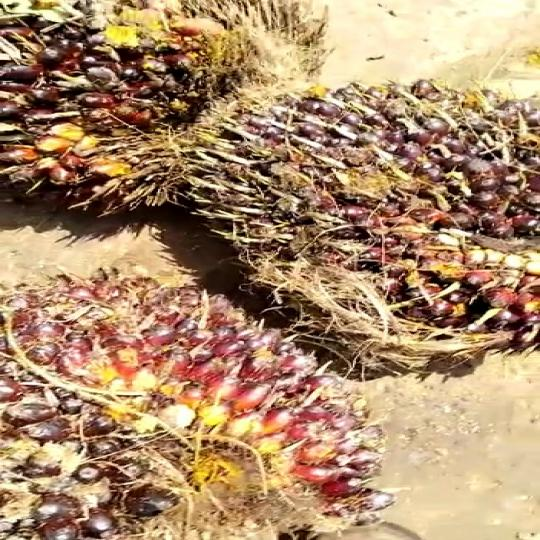kurang masak: (186, 82, 540, 380), (0, 263, 380, 539), (0, 0, 297, 228)
